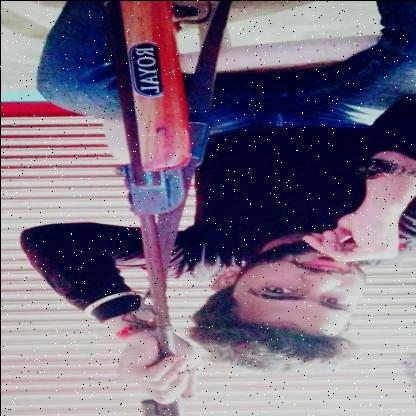rifle: (106, 0, 198, 416)
